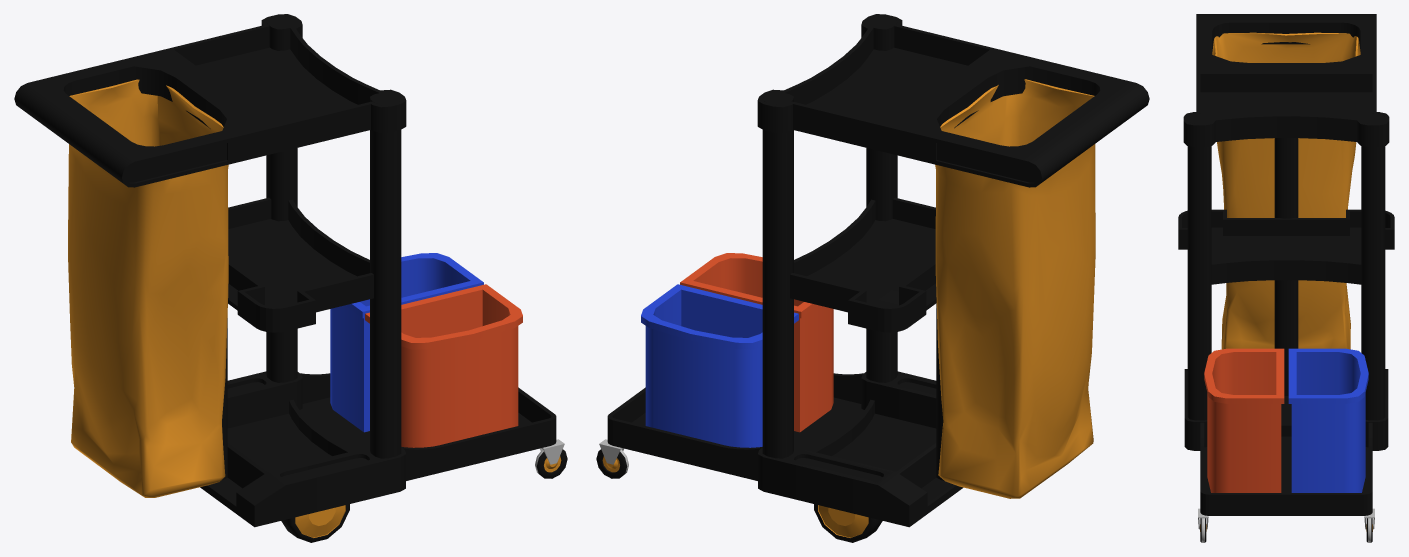
File: TroliKebersihan.fbx
3 views of the same model, side by side, from view 1: azimuth 30°, elevation 25°; view 2: azimuth 150°, elevation 25°; view 3: azimuth 270°, elevation 25° (orthographic). The views are drawn at different scales.
Visible parts, largest first — view 1: Plane.001; view 2: Plane.001; view 3: Plane.001.
Boxes of the visible parts, <box> form: Plane.001: <box>14,14,567,542</box>; Plane.001: <box>596,14,1149,542</box>; Plane.001: <box>1178,14,1394,542</box>.
Bounding box in the file's own units: 109 × 97.92 × 54.2.
